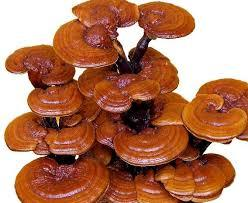Ganoderma - Fruit Body: (182, 78, 248, 146), (12, 159, 110, 203), (154, 153, 235, 202), (52, 18, 117, 69), (4, 45, 76, 88), (112, 128, 189, 164), (93, 73, 162, 113), (70, 0, 140, 32), (141, 0, 196, 39), (27, 79, 83, 117), (3, 112, 51, 155), (46, 121, 95, 156)
